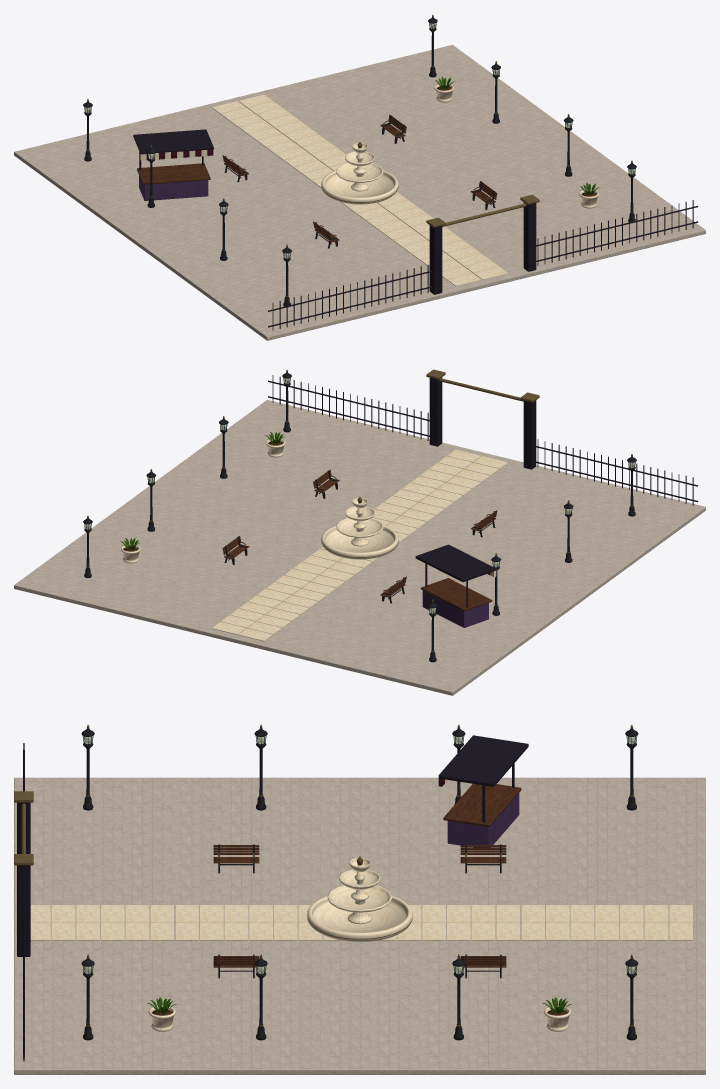
Rendered from explore3d__plaza.glb.
3 views of the same model, one above another, from view 1: azimuth 30°, elevation 25°; view 2: azimuth 150°, elevation 25°; view 3: azimuth 270°, elevation 25° (orthographic). The views are drawn at different scales.
Parts seen in each view (by area): view 1: floor.007, carved_basin, plaza_roof, plaza_counter, plaza_base.002, entry_pillar, entry_pillar.001, scalloped_bowl; view 2: floor.007, carved_basin, plaza_roof, plaza_counter, plaza_base.002, entry_pillar, entry_pillar.001, scalloped_bowl; view 3: floor.007, carved_basin, plaza_roof, plaza_counter, plaza_base.002, entry_pillar.001, scalloped_bowl, turned_fluted_pedestal, scalloped_bowl.001.
Part boxes in pixels (left/top/right/bottom): floor.007: left=14, top=45, right=705, bottom=340; carved_basin: left=321, top=170, right=398, bottom=204; plaza_roof: left=133, top=129, right=213, bottom=154; plaza_counter: left=137, top=163, right=210, bottom=184; plaza_base.002: left=139, top=175, right=208, bottom=200; entry_pillar: left=429, top=225, right=442, bottom=294; entry_pillar.001: left=523, top=202, right=536, bottom=271; scalloped_bowl: left=336, top=163, right=383, bottom=182; floor.007: left=14, top=400, right=705, bottom=695; carved_basin: left=321, top=525, right=398, bottom=559; plaza_roof: left=415, top=544, right=495, bottom=582; plaza_counter: left=420, top=578, right=492, bottom=611; plaza_base.002: left=422, top=590, right=488, bottom=627; entry_pillar: left=523, top=400, right=536, bottom=469; entry_pillar.001: left=429, top=377, right=442, bottom=446; scalloped_bowl: left=336, top=518, right=383, bottom=537; floor.007: left=14, top=777, right=705, bottom=1074; carved_basin: left=307, top=895, right=412, bottom=941; plaza_roof: left=438, top=735, right=528, bottom=786; plaza_counter: left=443, top=784, right=521, bottom=826; plaza_base.002: left=447, top=793, right=519, bottom=847; entry_pillar.001: left=17, top=865, right=30, bottom=956; scalloped_bowl: left=327, top=885, right=392, bottom=912; turned_fluted_pedestal: left=347, top=865, right=372, bottom=924; scalloped_bowl.001: left=339, top=869, right=380, bottom=889.
Bounding box in the file's own units: 28 × 4.56 × 28.
15 materials, 14 textured.
